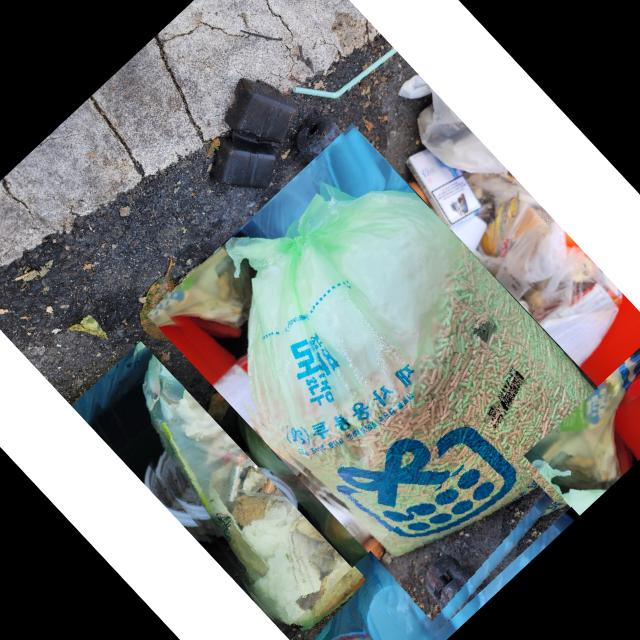general_trashbag: (225, 188, 617, 564), (139, 350, 371, 631), (524, 350, 640, 488)
other_trashbag: (310, 490, 559, 640)
